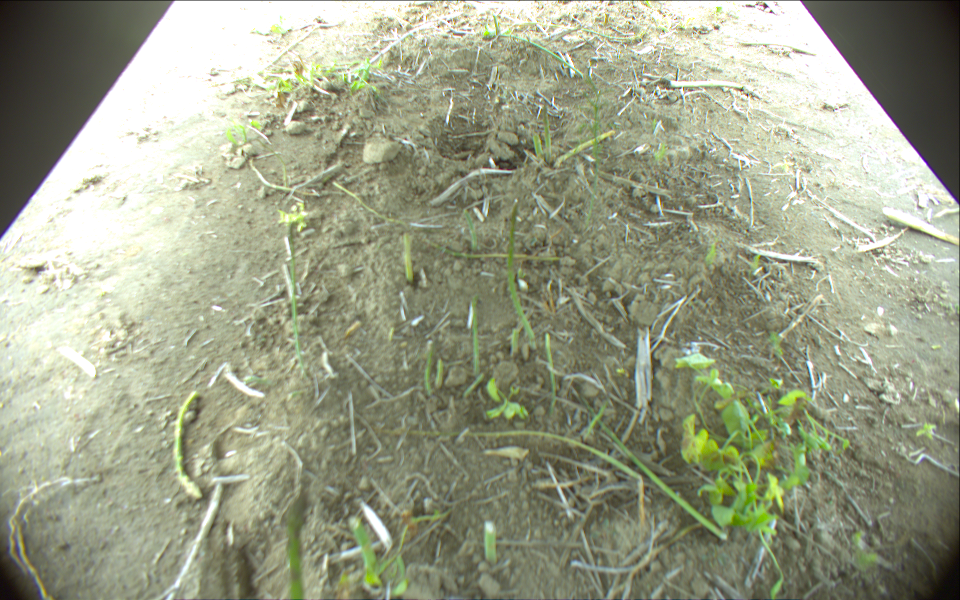aspa: (573, 385, 729, 542), (383, 427, 643, 483), (331, 181, 447, 229), (483, 31, 583, 77), (420, 234, 561, 263), (507, 202, 535, 334), (173, 392, 203, 498), (553, 127, 615, 166), (667, 78, 765, 101), (287, 496, 308, 600), (348, 518, 379, 582), (543, 330, 558, 393), (470, 297, 481, 374), (402, 232, 415, 287), (422, 349, 436, 393), (484, 522, 497, 563), (435, 356, 446, 389), (510, 327, 523, 353), (491, 13, 502, 39), (533, 134, 542, 159)
